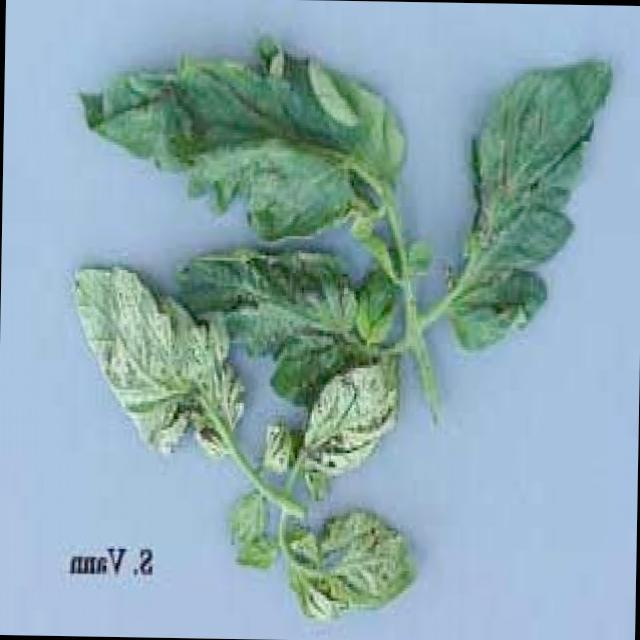Tomato bacterial spot leaf: (67, 35, 416, 252), (440, 48, 610, 359), (54, 254, 240, 454), (294, 358, 404, 496)
